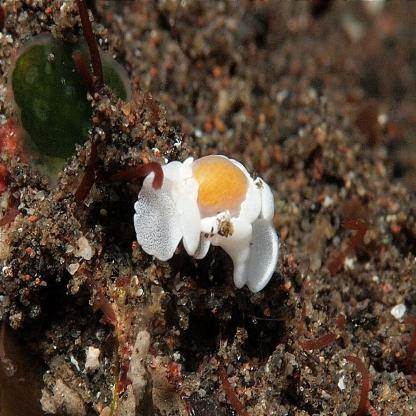Mushroom: (120, 158, 276, 299)
